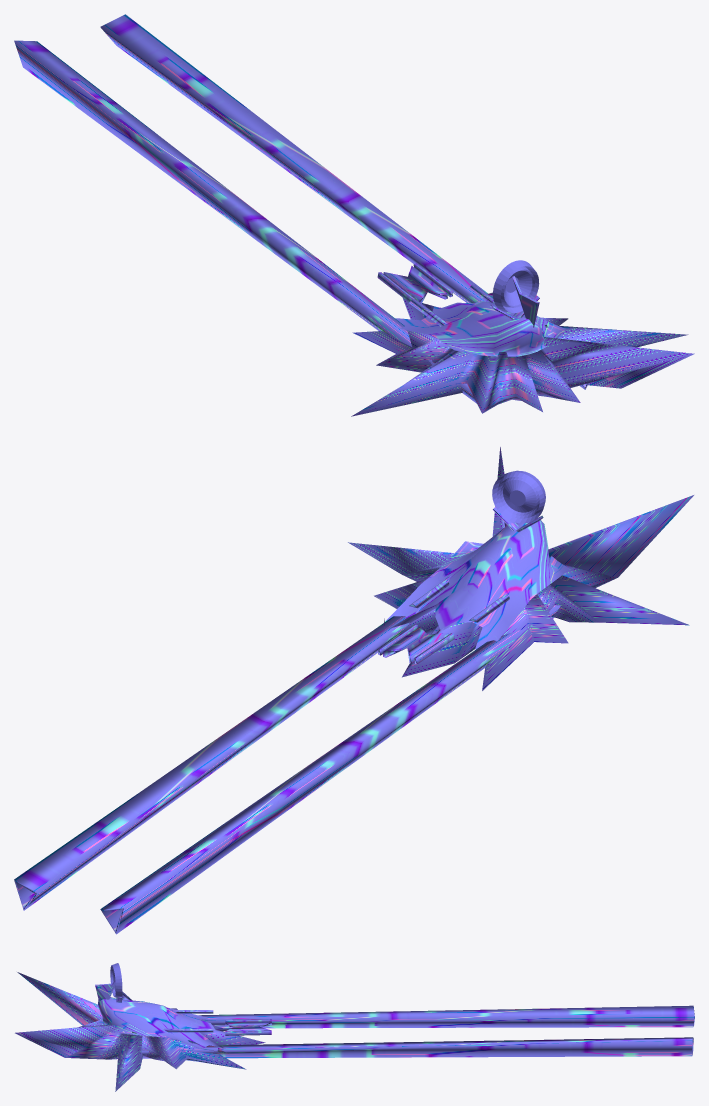
File: gunship2.obj
3 renders of one model, top to bottom at view 1: azimuth 30°, elevation 25°; view 2: azimuth 150°, elevation 25°; view 3: azimuth 270°, elevation 25°, orthographic. The views are drawn at different scales.
Visible parts, largest first — view 1: Ship_Body, Gun_2, Gun_1, Driving_Seat, Circle; view 2: Ship_Body, Gun_2, Gun_1, Driving_Seat, Circle; view 3: Gun_2, Gun_1, Ship_Body, Driving_Seat, Circle, Gun_Stripes_2, Cylinder.001, Gun_Stripe_4.
Part boxes in pixels (<box>): Ship_Body: <box>351,298,694,416</box>; Gun_2: <box>14,40,476,403</box>; Gun_1: <box>100,14,588,389</box>; Driving_Seat: <box>395,292,565,356</box>; Circle: <box>493,260,539,327</box>; Ship_Body: <box>348,447,693,690</box>; Gun_2: <box>100,605,560,934</box>; Gun_1: <box>14,616,409,910</box>; Driving_Seat: <box>383,520,569,649</box>; Circle: <box>492,470,545,523</box>; Gun_2: <box>199,1005,694,1028</box>; Gun_1: <box>141,1037,693,1058</box>; Ship_Body: <box>15,972,265,1091</box>; Driving_Seat: <box>98,997,228,1053</box>; Circle: <box>95,963,122,1001</box>; Gun_Stripes_2: <box>225,1021,271,1026</box>; Cylinder.001: <box>163,1028,213,1032</box>; Gun_Stripe_4: <box>225,1030,271,1035</box>.
Size of the model in its own units: 6.99 by 2.57 by 18.85.
